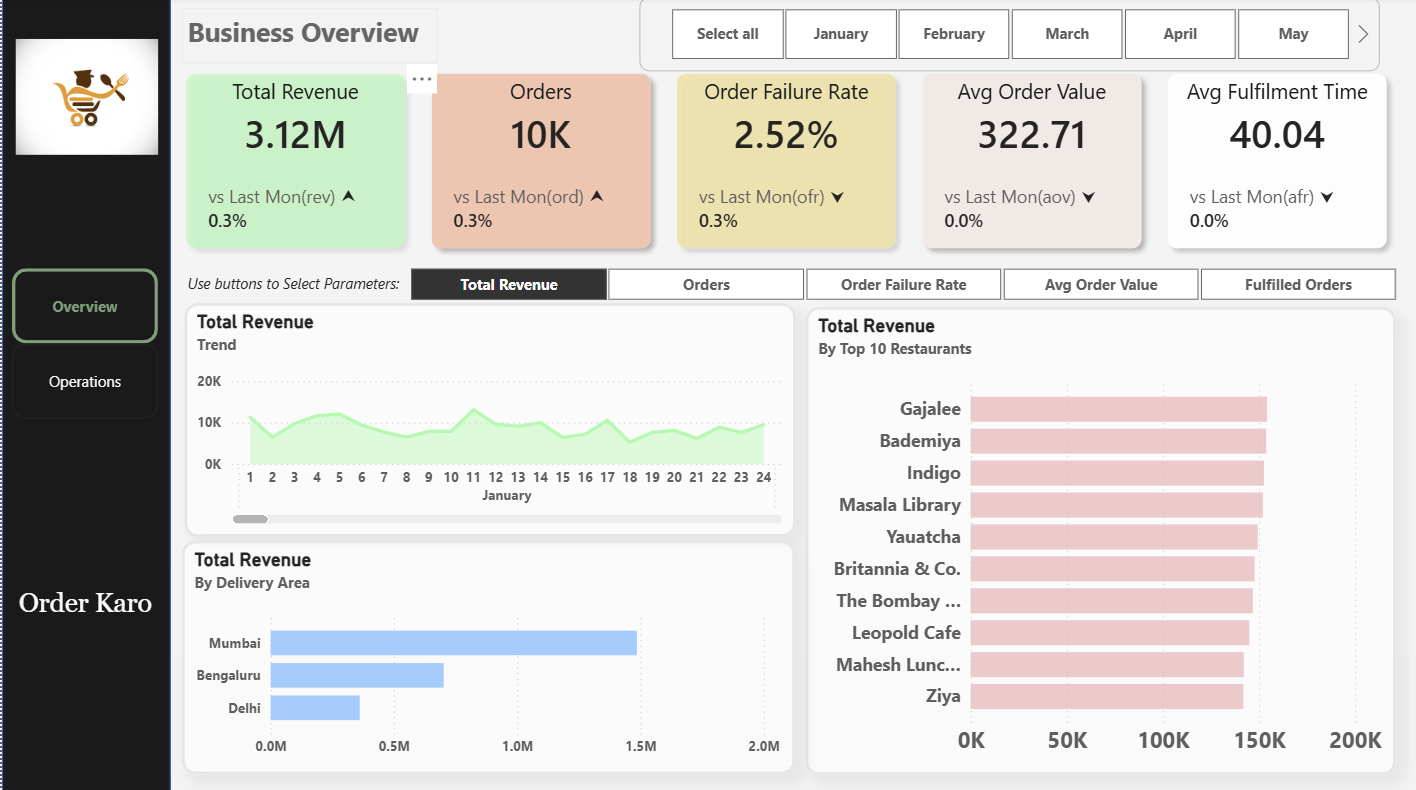

Layout of this report page (visuals, bound fields, positions):
{"tool":"powerbi","page":{"name":"Overview","canvas":[1280,720],"ordinal":0},"visuals":[{"type":"shape","box":[0,0,152.6,720.2],"z":0,"group":"g1"},{"type":"group","id":"g1","title":"Group 1","box":[0,0,152.6,720.2],"z":0},{"type":"cardVisual","fields":{"Data":["fooddelivery orders.Total Revenue","fooddelivery orders.Total Orders","fooddelivery orders.Order Failure Rate","fooddelivery orders.Avg Order Value","fooddelivery deliveries.Avg Fulfilment Time"]},"box":[142.5,45.2,1137.4,206.9],"z":1000},{"type":"lineChart","fields":{"Category":["DateTable.Date.Variation.Date Hierarchy.Month","DateTable.Date.Variation.Date Hierarchy.Day"],"Y":["fooddelivery orders.Total Revenue"]},"box":[164.7,277.2,553,211.5],"z":2000},{"type":"slicer","fields":{"Values":["Parameters:.Parameters:"]},"box":[349.4,238.6,930.5,41.8],"z":3000},{"type":"barChart","fields":{"Category":["fooddelivery restaurants.restaurant_name"],"Y":["fooddelivery orders.Total Revenue"]},"box":[727,280.4,533.7,422.9],"z":4000},{"type":"barChart","fields":{"Category":["fooddelivery restaurants.city"],"Y":["fooddelivery orders.Total Revenue"]},"box":[162.8,491.8,554,211.4],"z":5000},{"type":"textbox","box":[162.8,245.4,211.4,28.3],"z":6000},{"type":"textbox","box":[162.7,10.3,231.8,49.7],"z":7000},{"type":"image","box":[12.4,20.4,128.9,140.2],"z":8000},{"type":"pageNavigator","box":[9,245.4,132.3,137.9],"z":8000,"group":"g1"},{"type":"textbox","box":[10.2,529.1,152.6,99.5],"z":9000},{"type":"slicer","fields":{"Values":["DateTable.Date.Variation.Date Hierarchy.Month"]},"box":[577.1,0,669.5,66.9],"z":9001}]}

Visuals, with their boxes on the page's 1280x720 design canvas (x1, y1, x2, y2). These are canvas units, not pixel positions in the 1416x790 screenshot, which may show the page scaled, cropped or inside an application window:
shape: x1=0 y1=0 x2=153 y2=720
"Group 1" group: x1=0 y1=0 x2=153 y2=720
cardVisual - fooddelivery orders.Total Revenue x fooddelivery orders.Total Orders: x1=142 y1=45 x2=1280 y2=252
lineChart - DateTable.Date.Variation.Date Hierarchy.Month x DateTable.Date.Variation.Date Hierarchy.Day: x1=165 y1=277 x2=718 y2=489
slicer - Parameters:.Parameters:: x1=349 y1=239 x2=1280 y2=280
barChart - fooddelivery restaurants.restaurant_name x fooddelivery orders.Total Revenue: x1=727 y1=280 x2=1261 y2=703
barChart - fooddelivery restaurants.city x fooddelivery orders.Total Revenue: x1=163 y1=492 x2=717 y2=703
textbox: x1=163 y1=245 x2=374 y2=274
textbox: x1=163 y1=10 x2=394 y2=60
image: x1=12 y1=20 x2=141 y2=161
pageNavigator: x1=9 y1=245 x2=141 y2=383
textbox: x1=10 y1=529 x2=163 y2=629
slicer - DateTable.Date.Variation.Date Hierarchy.Month: x1=577 y1=0 x2=1247 y2=67
